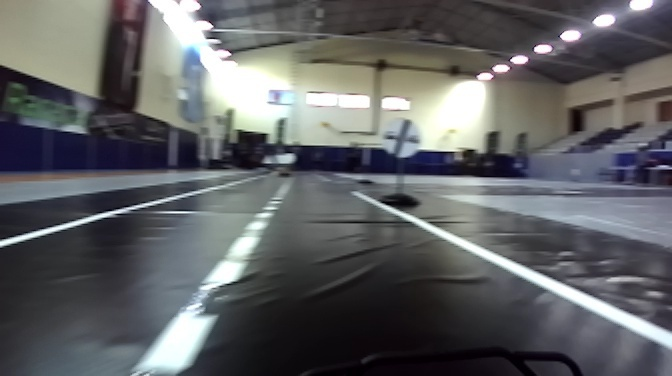sollama_serbest: (381, 116, 420, 160)
